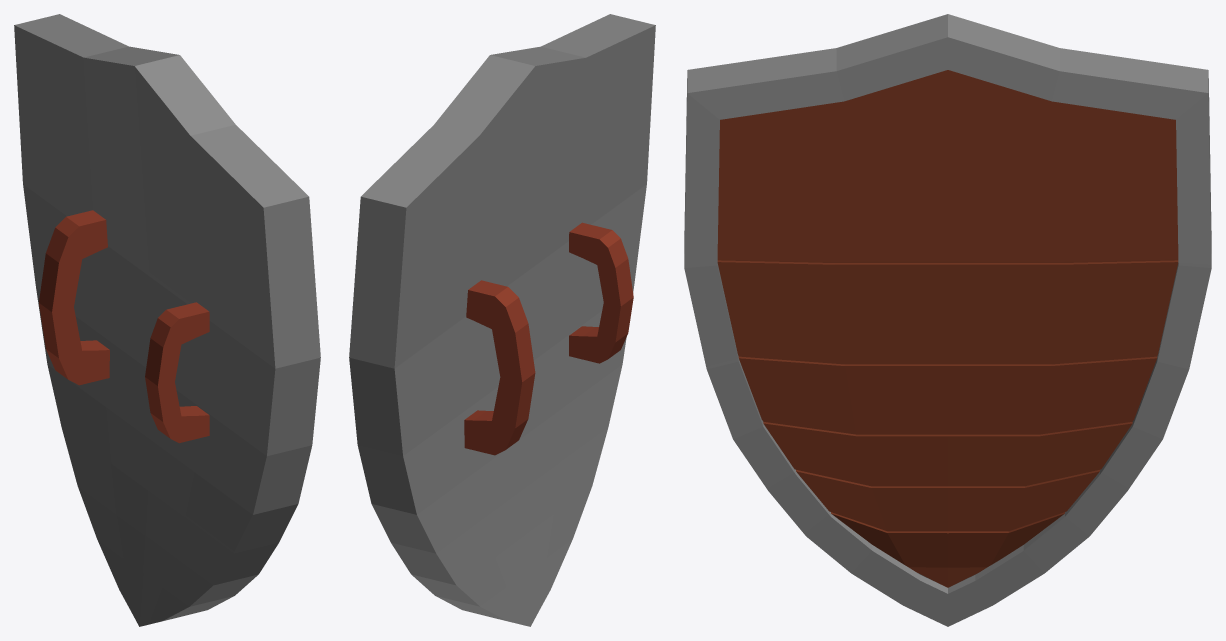
Rendered from Low poly shield.fbx.
3 renders of one model, left to right at view 1: azimuth 30°, elevation 25°; view 2: azimuth 150°, elevation 25°; view 3: azimuth 270°, elevation 25°, orthographic. The views are drawn at different scales.
Parts seen in each view (by area): view 1: handles; view 2: handles; view 3: handles.
Part boxes in pixels (box(x1,y1,x2,y2)): handles: box(14, 14, 320, 626); handles: box(349, 14, 655, 626); handles: box(684, 14, 1211, 626).
Size of the model in its own units: 225 by 1169 by 952.
